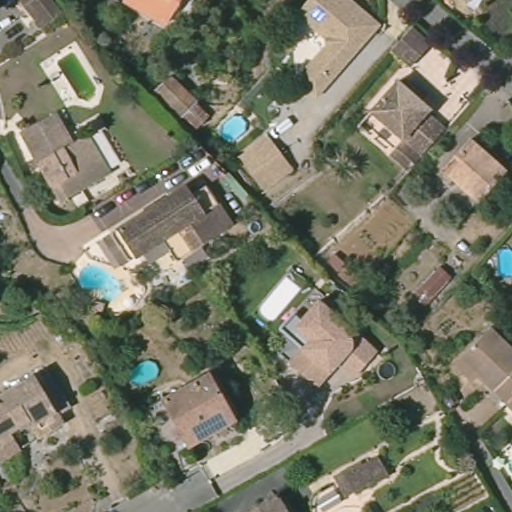pool: (73, 260, 124, 307), (125, 355, 164, 392), (218, 111, 250, 145), (493, 240, 512, 287)
